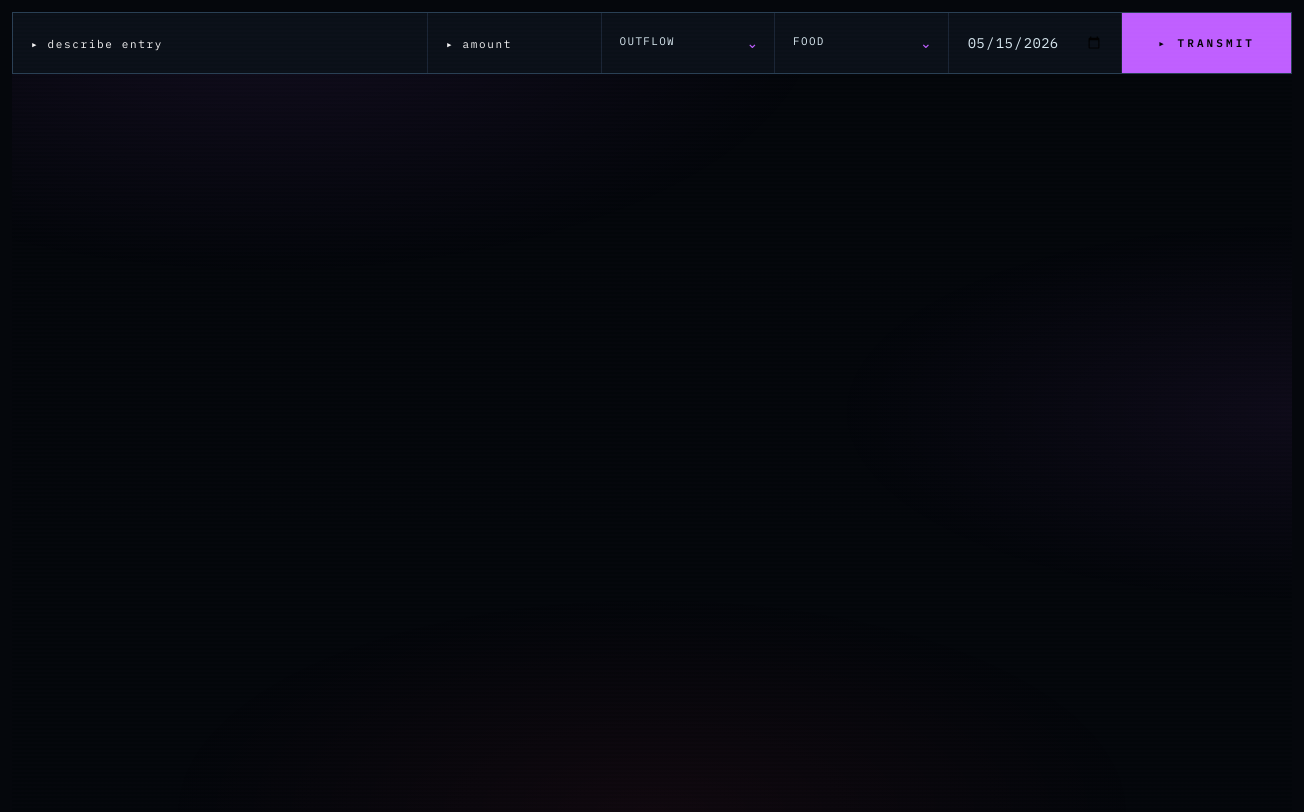
Test case: TransactionForm › validation › shows description error when submitting with empty description
Type "50" into the number field with placeholder "▸ amount" at {"x": 514, "y": 43}, box [428,13,601,73]
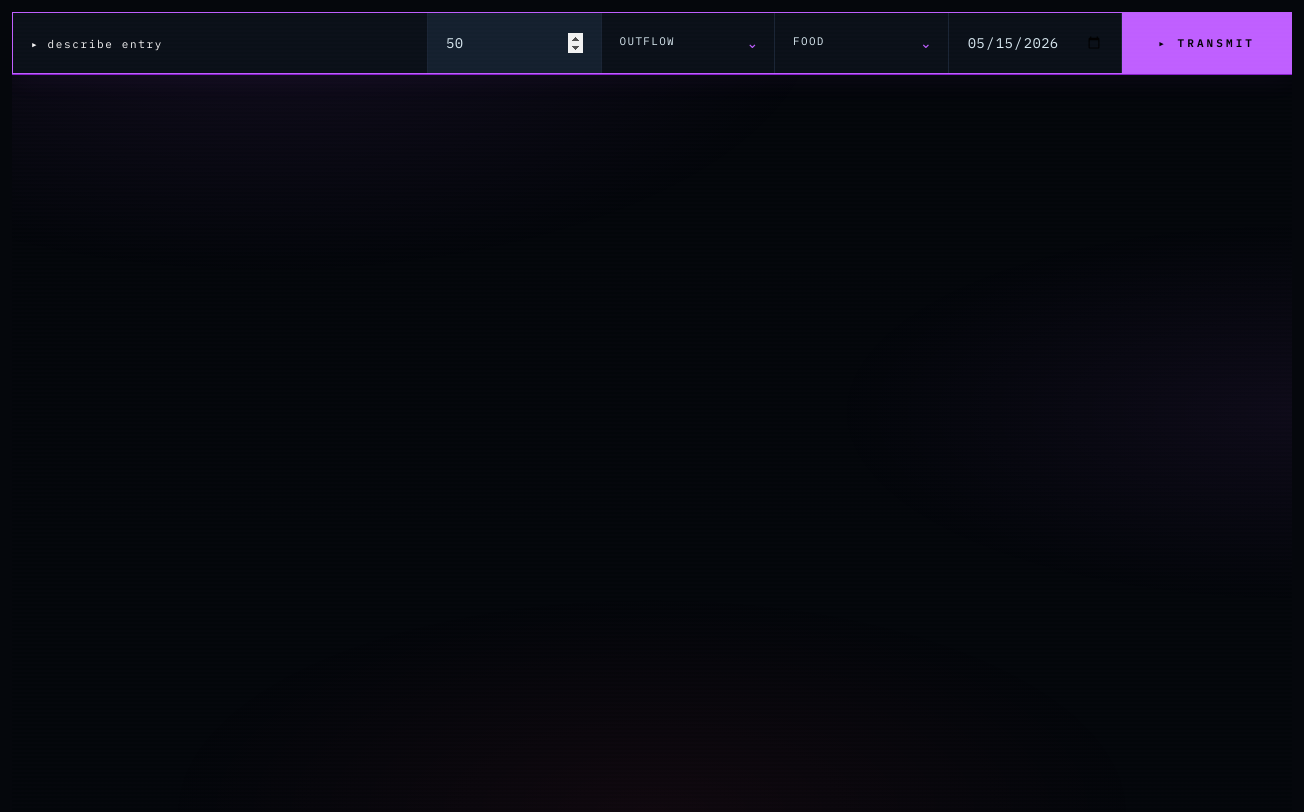
Click the button "▸ Transmit" at {"x": 1207, "y": 43}, box [1122,13,1291,73]
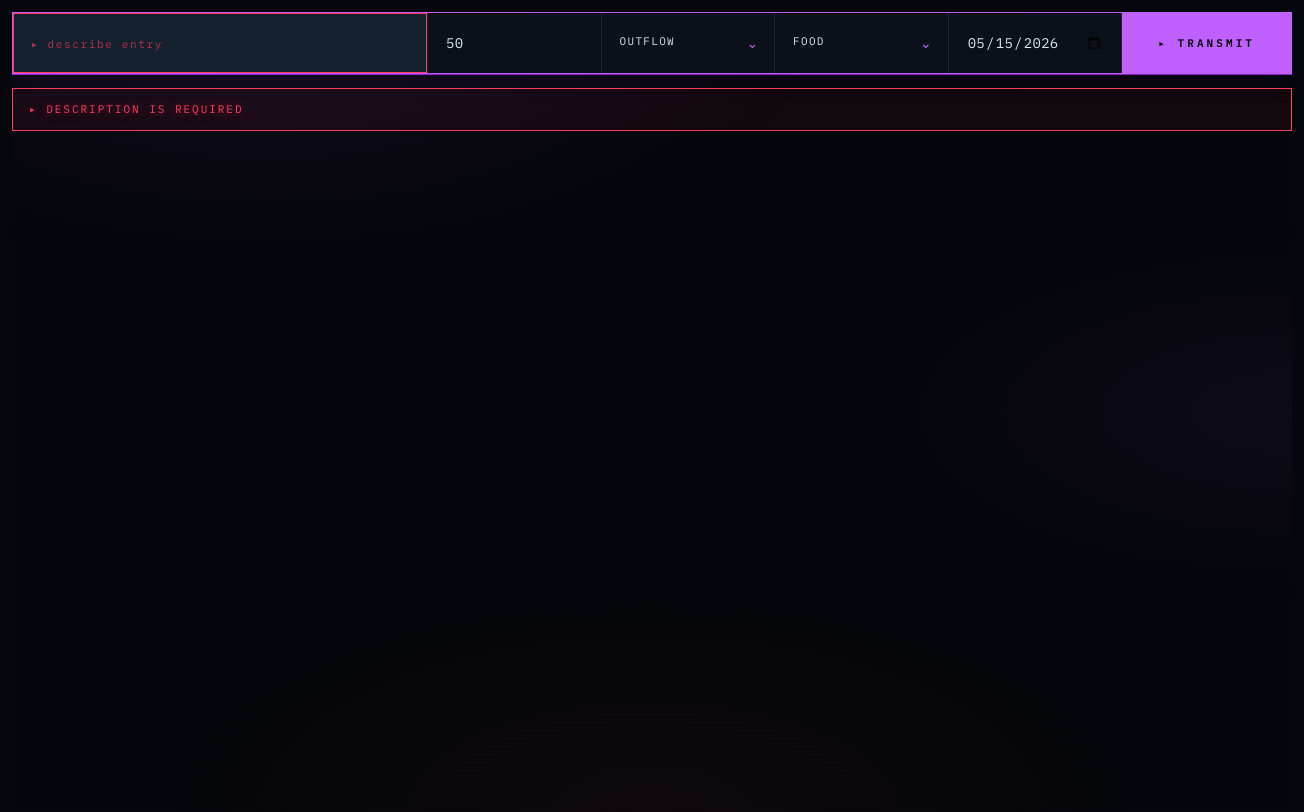
Expected: the text "▸ Description is required" is shown, [29,102,244,116]
